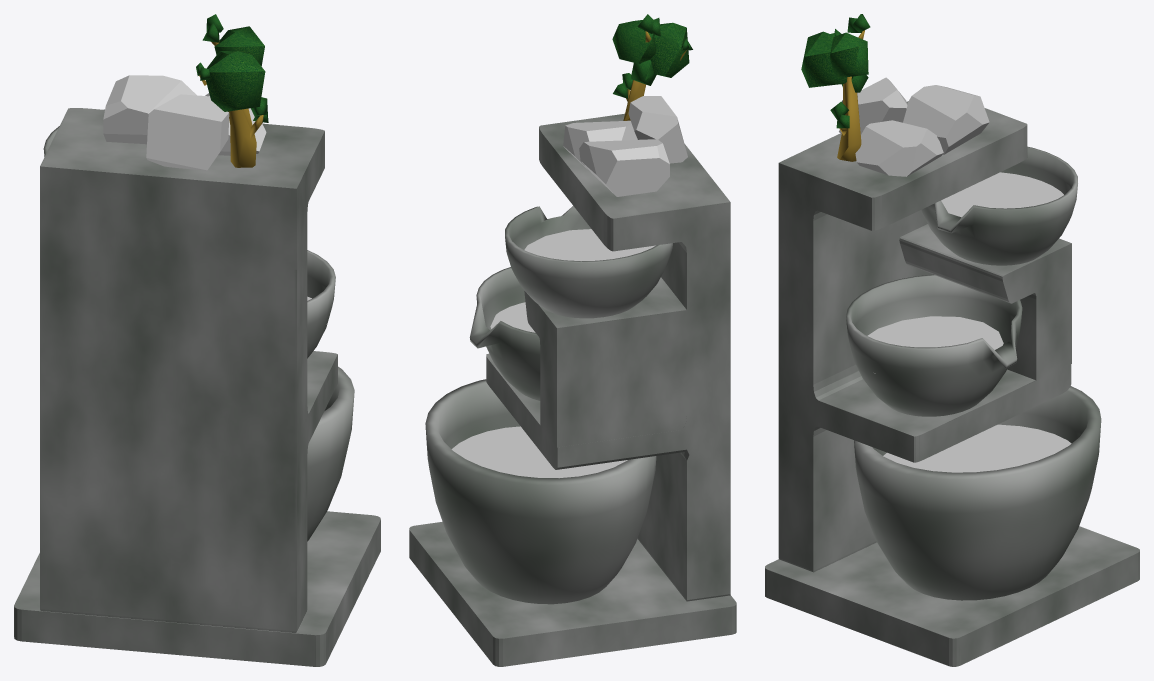
Rendered from Water_Fountain.fbx.
3 views of the same model, side by side, from view 1: azimuth 30°, elevation 25°; view 2: azimuth 150°, elevation 25°; view 3: azimuth 270°, elevation 25° (orthographic). The views are drawn at different scales.
Visible parts, largest first — view 1: Fountain Base, Tree, Rock.005, Pot.004, Rock.003, Pot.005; view 2: Fountain Base, Pot.004, Pot.003, Pot.005, Tree, Rock.003, Water.003, Rock.005, Water.005, Rock.004, Water.004; view 3: Fountain Base, Pot.004, Pot.005, Pot.003, Tree, Water.003, Rock.003, Rock.004, Water.004, Water.005, Rock.005.
Boxes of the visible parts, left/top/right/bottom form: Fountain Base: left=14, top=108, right=380, bottom=666; Tree: left=196, top=14, right=268, bottom=167; Rock.005: left=146, top=94, right=229, bottom=170; Pot.004: left=307, top=366, right=354, bottom=541; Rock.003: left=103, top=75, right=196, bottom=144; Pot.005: left=307, top=250, right=335, bottom=358; Fountain Base: left=409, top=113, right=736, bottom=666; Pot.004: left=425, top=379, right=656, bottom=604; Pot.003: left=505, top=206, right=672, bottom=318; Pot.005: left=469, top=267, right=540, bottom=400; Tree: left=612, top=14, right=692, bottom=120; Rock.003: left=579, top=139, right=669, bottom=196; Water.003: left=451, top=426, right=627, bottom=478; Rock.005: left=628, top=96, right=687, bottom=163; Water.005: left=524, top=229, right=655, bottom=261; Rock.004: left=563, top=120, right=637, bottom=169; Water.004: left=490, top=302, right=535, bottom=332; Fountain Base: left=765, top=101, right=1139, bottom=666; Pot.004: left=854, top=386, right=1101, bottom=600; Pot.005: left=846, top=274, right=1022, bottom=416; Pot.003: left=921, top=146, right=1077, bottom=265; Tree: left=801, top=14, right=870, bottom=161; Water.003: left=883, top=424, right=1071, bottom=472; Rock.003: left=903, top=85, right=989, bottom=154; Rock.004: left=855, top=120, right=943, bottom=176; Water.004: left=867, top=316, right=1003, bottom=373; Water.005: left=941, top=172, right=1063, bottom=217; Rock.005: left=839, top=77, right=907, bottom=134.
Size of the model in its own units: 147 by 240 by 146.
